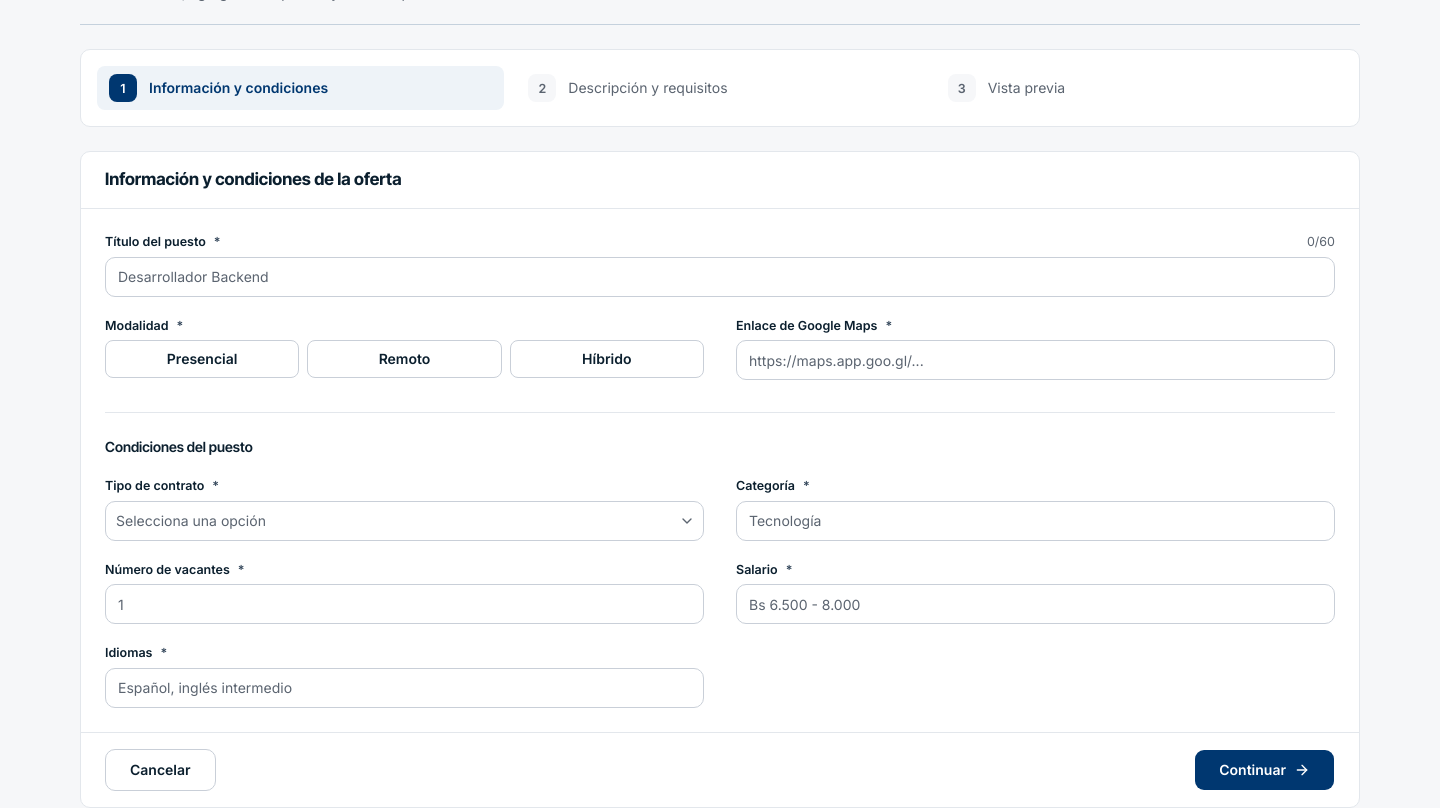
it: Registrar vacante: wizard completo conectado al backend › paso 1: con campos vacíos no avanza y marca los obligatorios
(page scrolled)
Click the button "Continuar" at coordinates (1265, 770), box [1194,749,1335,791]
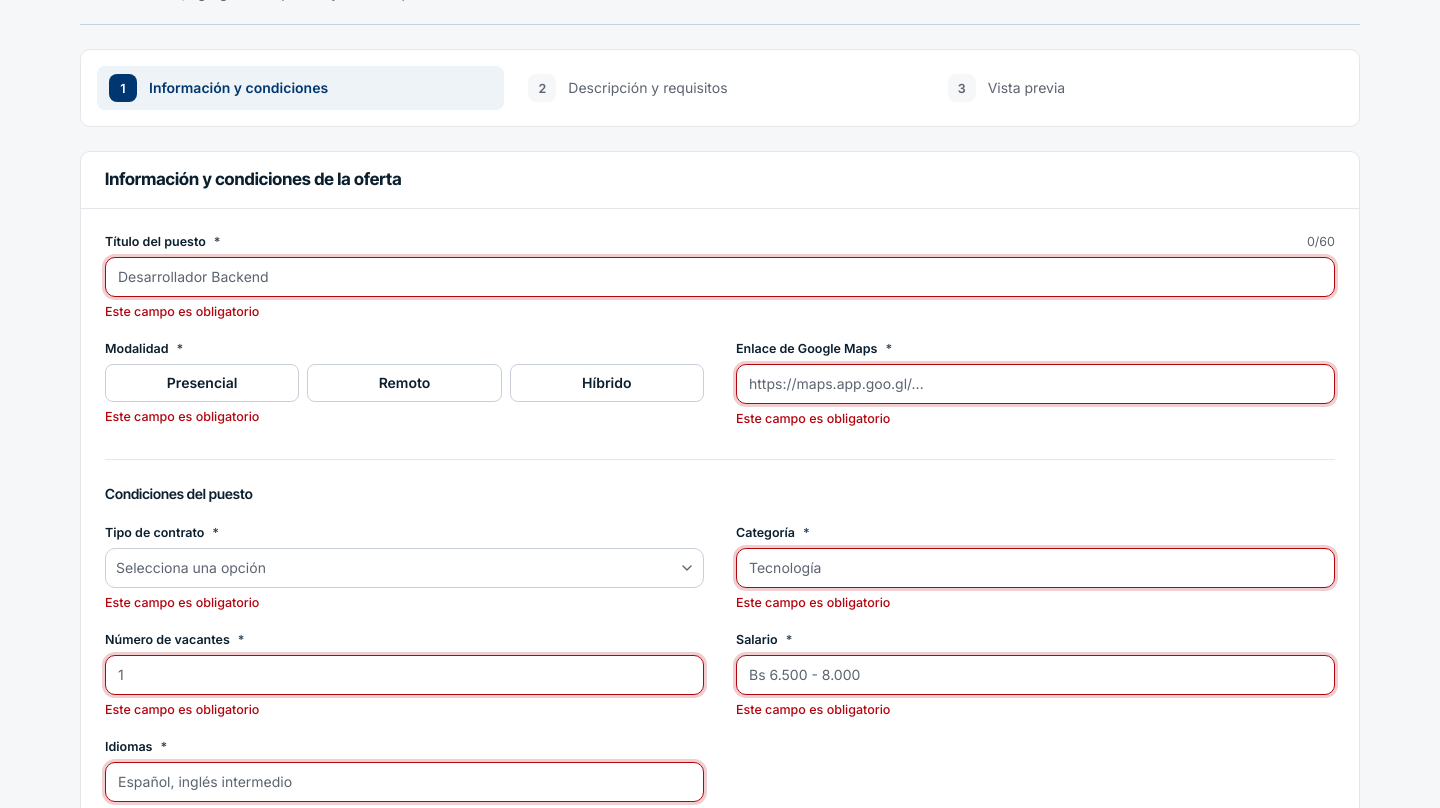
Expected: the text "Este campo es obligatorio" is shown 8 times
